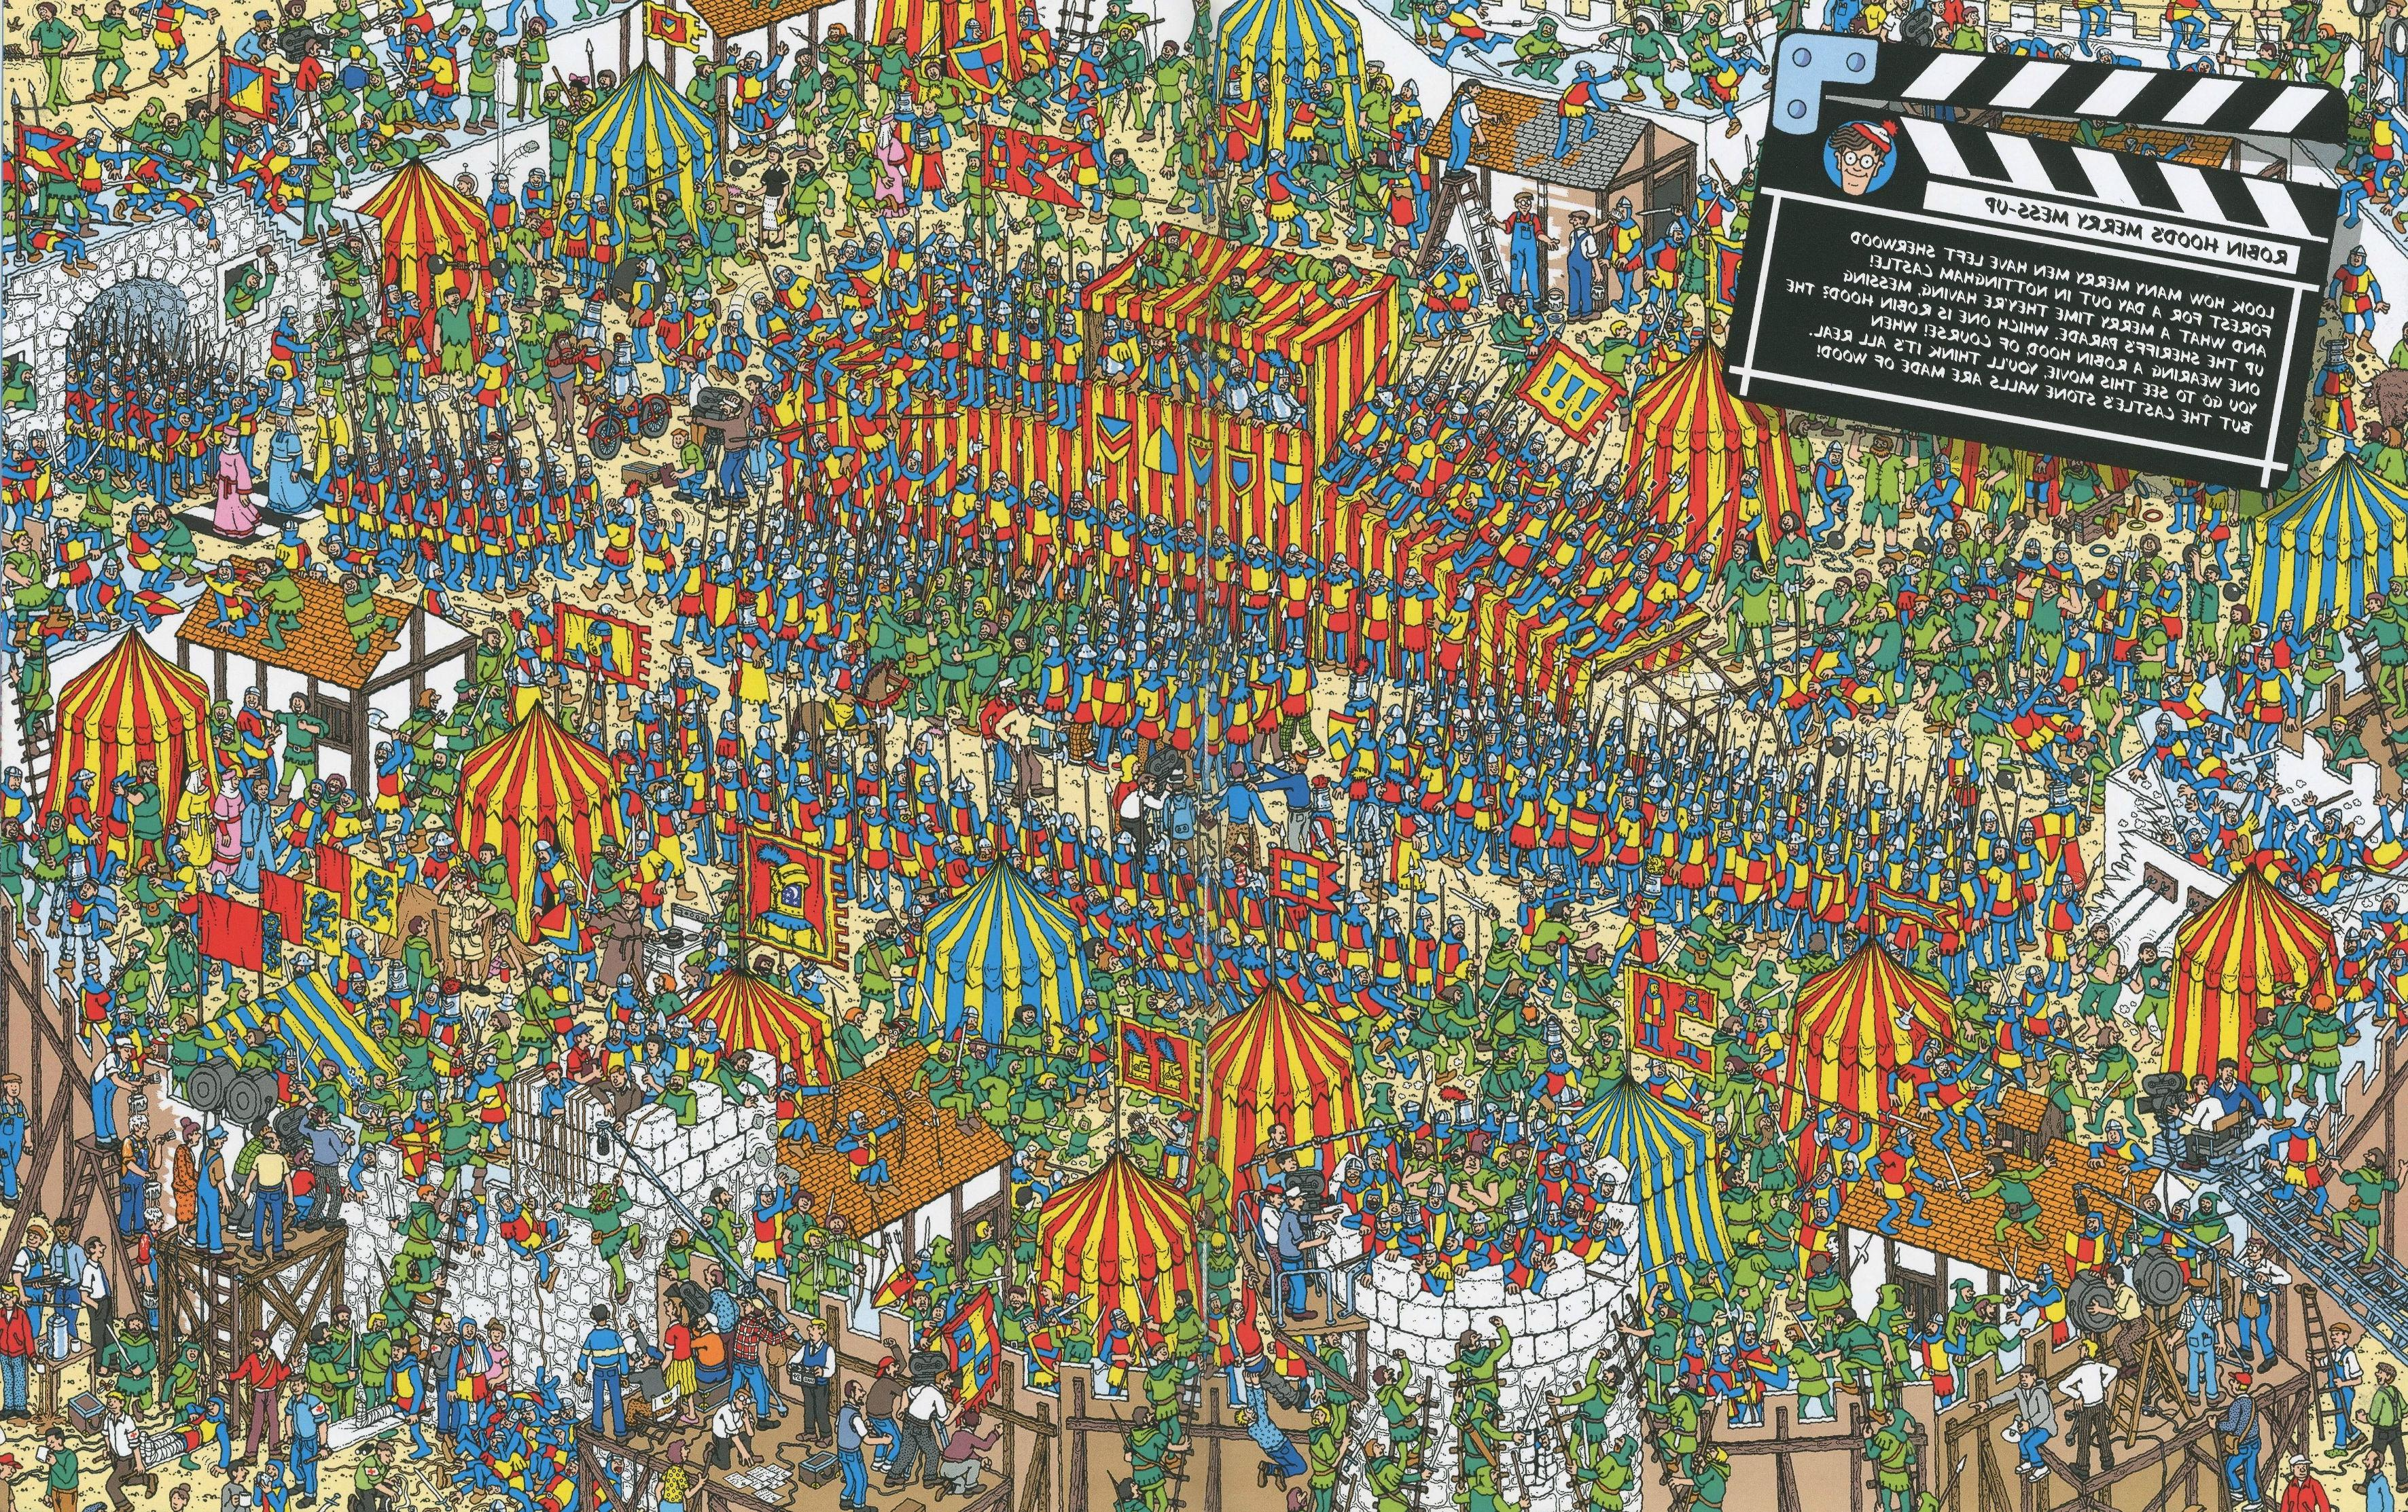waldos: (885, 1019, 911, 1056)
